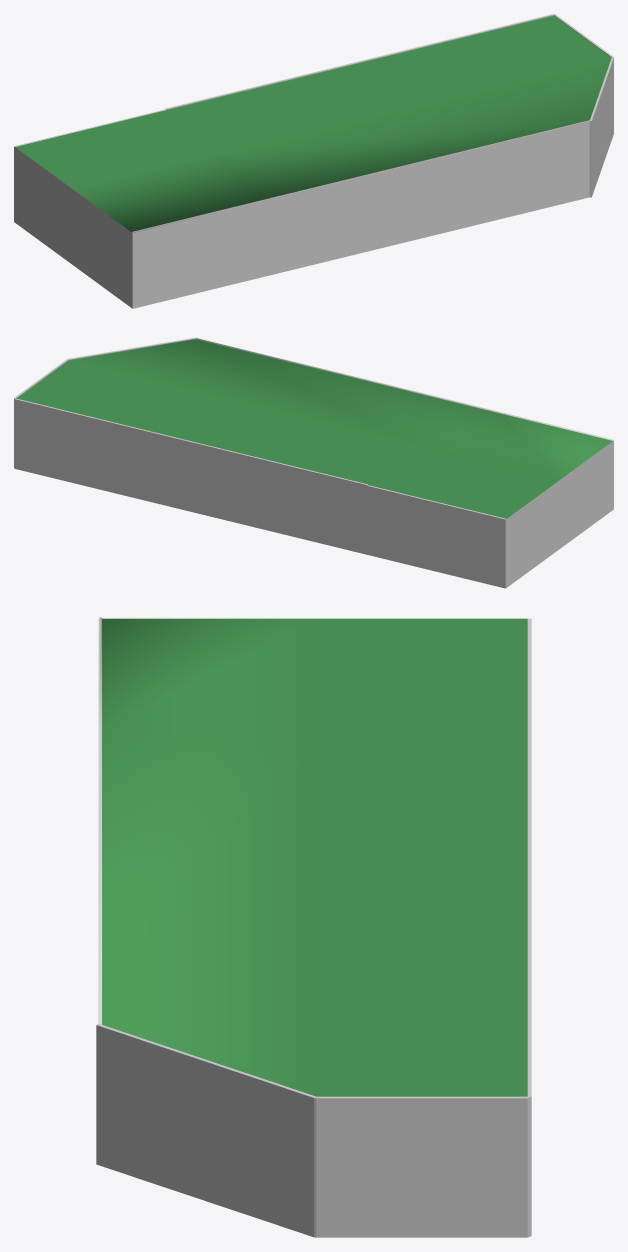
Rendered from quais3.fbx.
3 renders of one model, top to bottom at view 1: azimuth 30°, elevation 25°; view 2: azimuth 150°, elevation 25°; view 3: azimuth 270°, elevation 25°, orthographic. The views are drawn at different scales.
Visible parts, largest first — view 1: quais3; view 2: quais3; view 3: quais3.
Part boxes in pixels (bbox=[...]): quais3: bbox=[14, 14, 613, 308]; quais3: bbox=[14, 337, 613, 588]; quais3: bbox=[96, 617, 531, 1237].
Bounding box in the file's own units: 1061 × 144 × 406.
